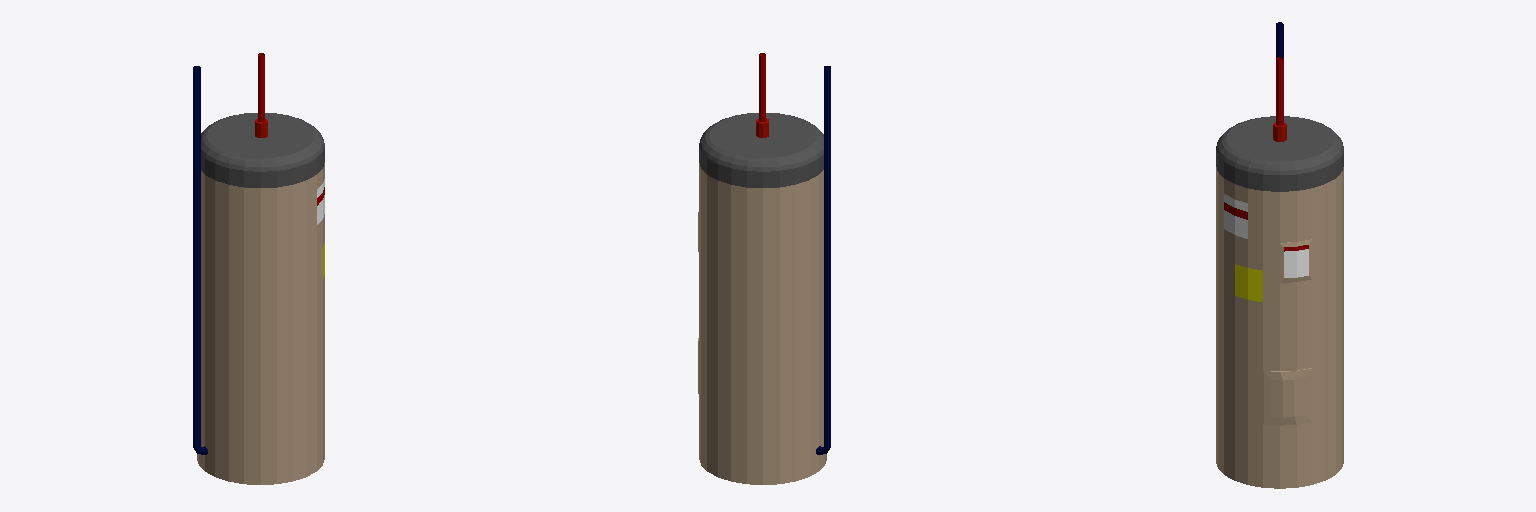
Rendered from hotwaterheater.obj.
3 renders of one model, left to right at view 1: azimuth 30°, elevation 25°; view 2: azimuth 150°, elevation 25°; view 3: azimuth 270°, elevation 25°, orthographic.
Visible parts, largest first — view 1: Circle; view 2: Circle; view 3: Circle.
Part boxes in pixels (x1,y1,x2,y2): Circle: (193,53,324,484); Circle: (698,53,830,484); Circle: (1216,22,1343,488).
Bounding box in the file's own units: 0.6268 × 1.95 × 0.56.